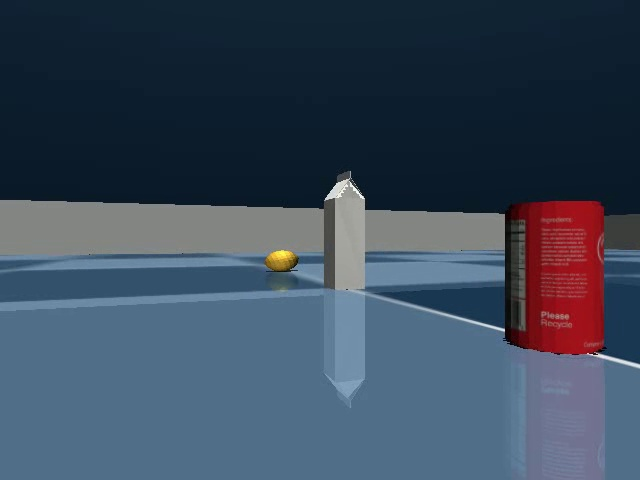can: (495, 190, 615, 364)
lemon: (260, 245, 304, 277)
milk: (317, 166, 376, 298)
